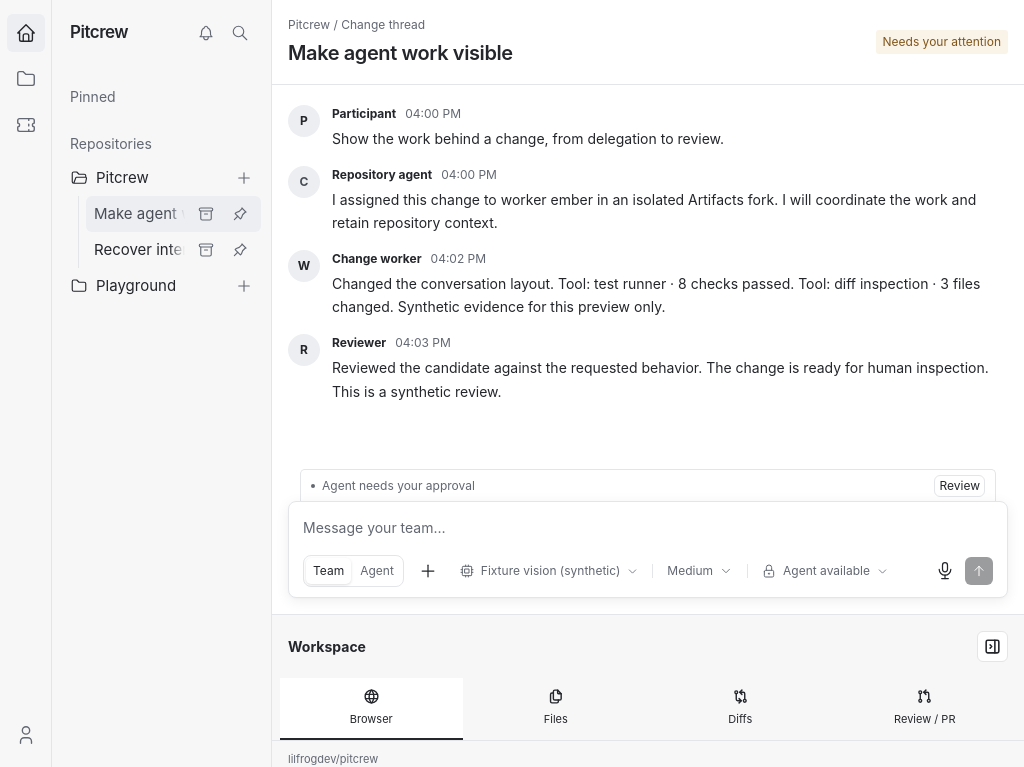
Test: conversation read ordering › ignores a stale poll success after a committed send
The width and height of the screenshot is (1024, 767).
Expected: the text "Show the work behind a change, from delegation to review." is shown, top-left (332, 130), bottom-right (724, 147)
Step 1. Type "Preserve the newest message" into the dropdown named "Message your crew" → (648, 528), box top-left (303, 516), bottom-right (993, 540)
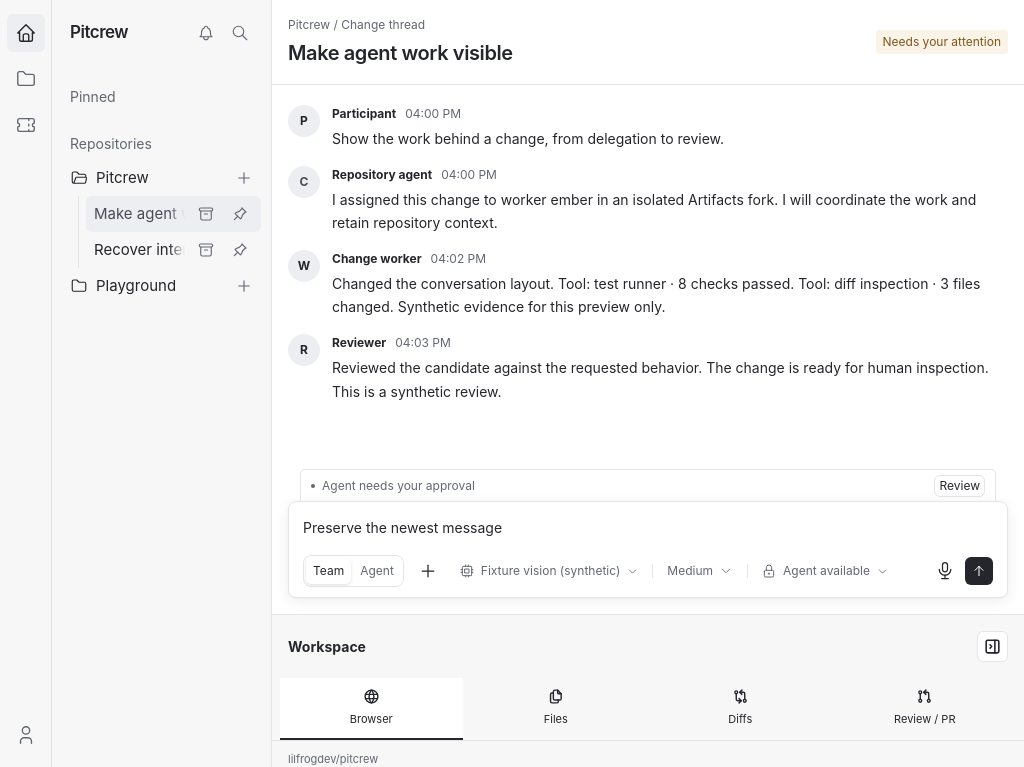
Step 2. Submit the form named "Message your crew", box top-left (288, 501), bottom-right (1008, 598)
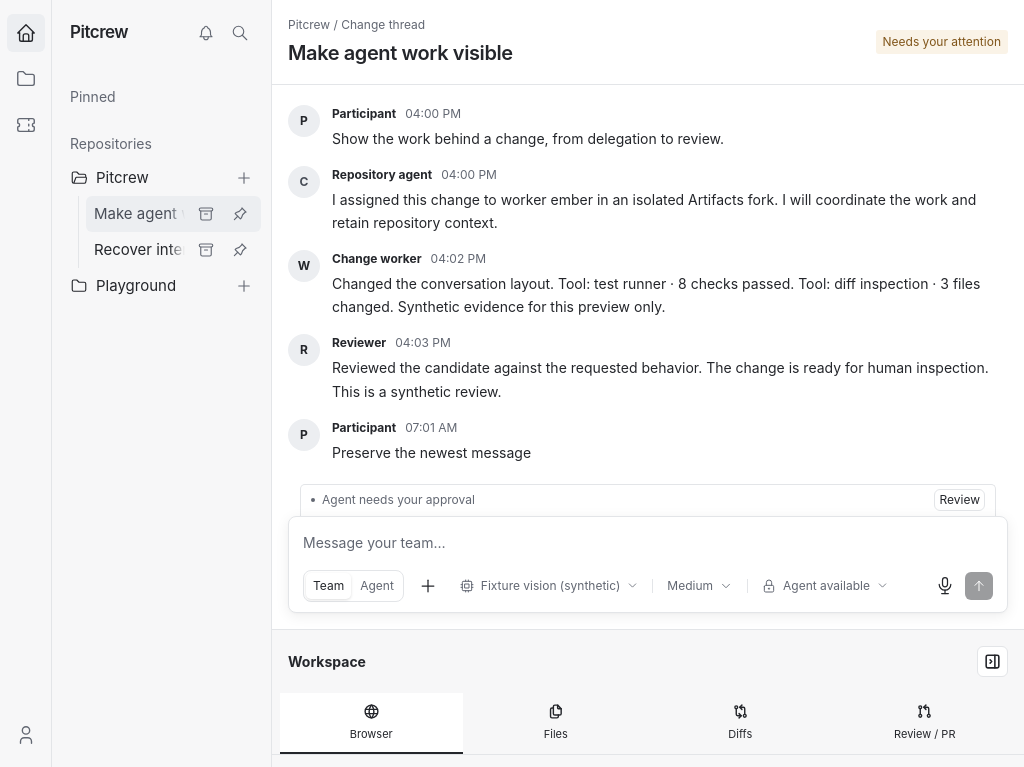
Now the text "Preserve the newest message" is shown, box top-left (332, 444), bottom-right (531, 461)
